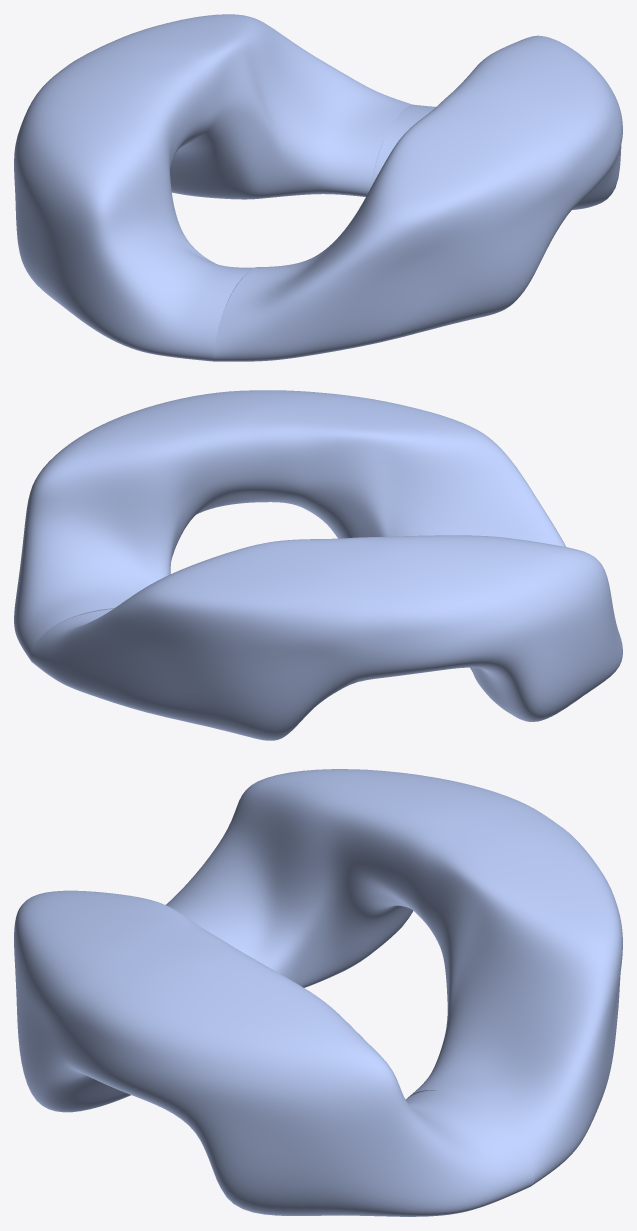
3 views of the same model, one above another, from view 1: azimuth 30°, elevation 25°; view 2: azimuth 150°, elevation 25°; view 3: azimuth 270°, elevation 25° (orthographic). The views are drawn at different scales.
Parts seen in each view (by area): view 1: B5-24-古巴链-OK-版-倒铜 1.010, B5-24-古巴链-OK-版-倒铜 1.009; view 2: B5-24-古巴链-OK-版-倒铜 1.010, B5-24-古巴链-OK-版-倒铜 1.009; view 3: B5-24-古巴链-OK-版-倒铜 1.010, B5-24-古巴链-OK-版-倒铜 1.009.
Part boxes in pixels (x1,y1,x2,y2): B5-24-古巴链-OK-版-倒铜 1.010: (14, 14, 411, 361); B5-24-古巴链-OK-版-倒铜 1.009: (213, 35, 622, 361); B5-24-古巴链-OK-版-倒铜 1.010: (30, 535, 622, 740); B5-24-古巴链-OK-版-倒铜 1.009: (14, 390, 566, 660); B5-24-古巴链-OK-版-倒铜 1.010: (166, 769, 622, 1185); B5-24-古巴链-OK-版-倒铜 1.009: (14, 890, 533, 1216).
Bounding box in the file's own units: 0.1927 × 0.0568 × 0.1591.
